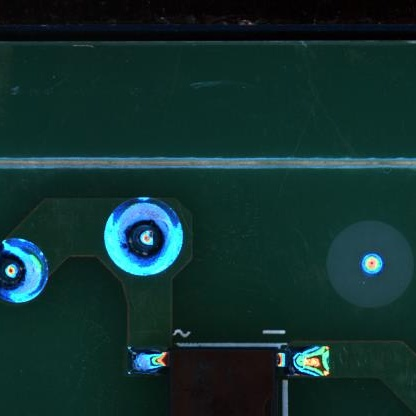spot: (104, 196, 185, 277), (2, 236, 49, 307)
